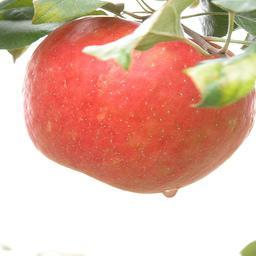apple: (22, 17, 254, 196)
